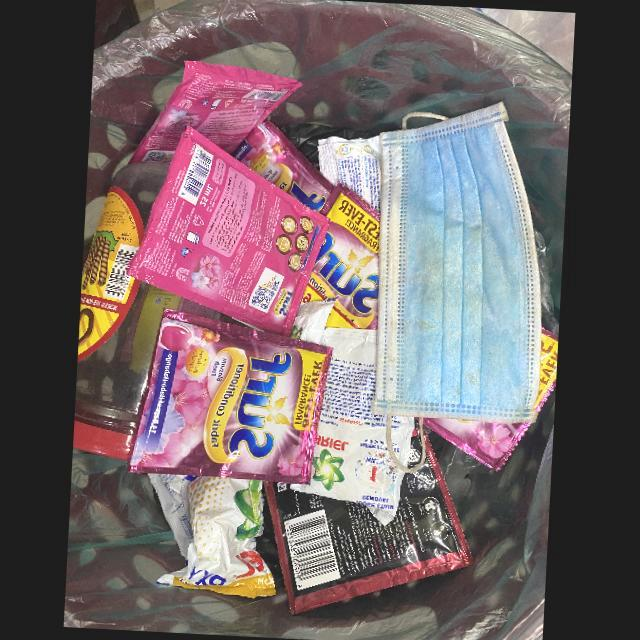plastic_container: (73, 162, 219, 466)
plastic_sachet: (259, 424, 473, 615), (129, 132, 326, 335), (127, 309, 334, 486), (125, 61, 302, 165), (157, 478, 276, 598), (304, 181, 381, 330), (231, 121, 335, 213), (419, 418, 532, 472), (316, 135, 381, 213), (532, 330, 558, 424)
